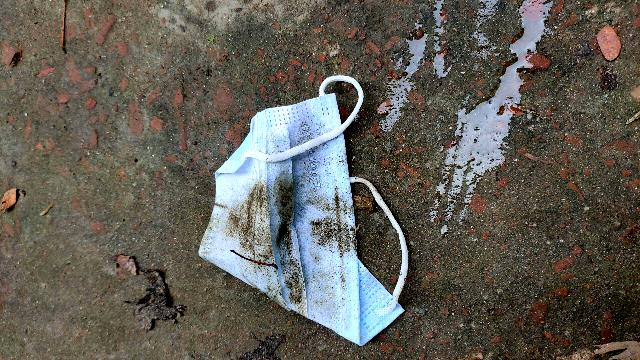mask: (173, 56, 431, 351)
